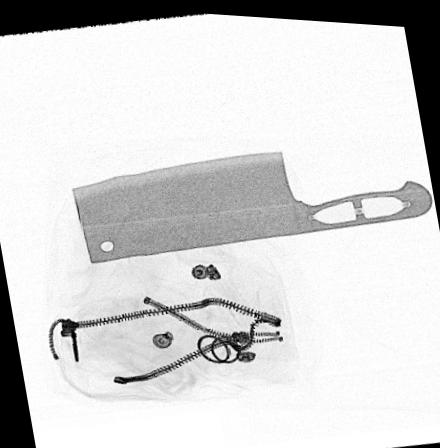Knife: (71, 148, 432, 266)
